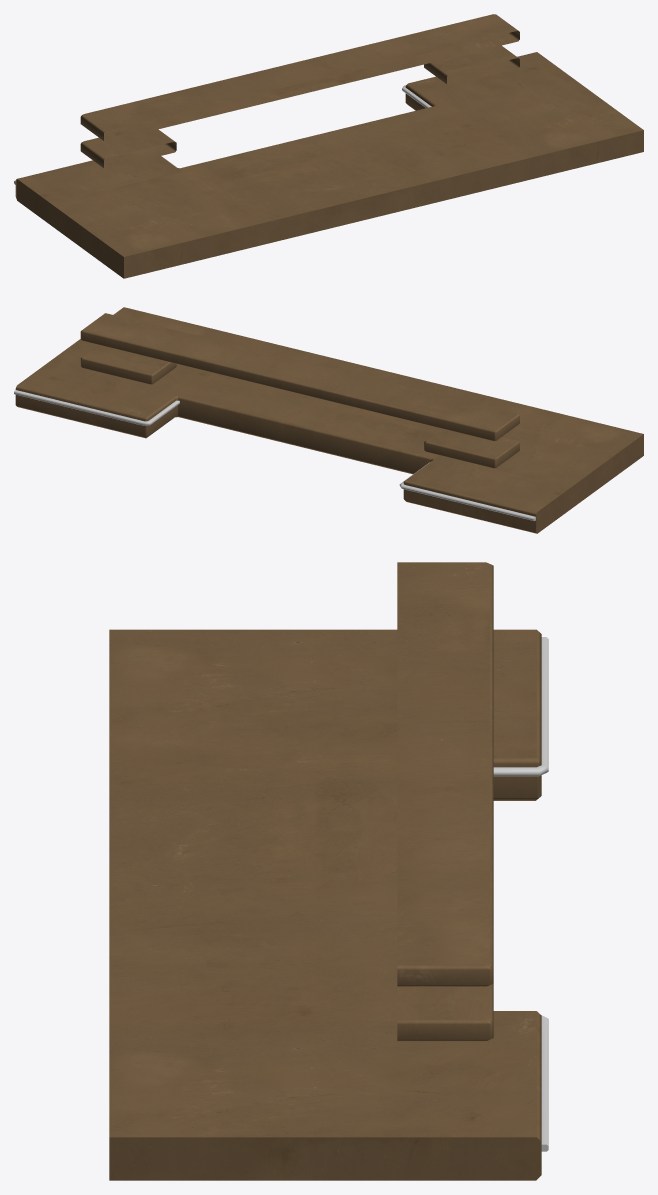
The model's file is SM_Building01EntranceCanopyR.fbx.
3 renders of one model, top to bottom at view 1: azimuth 30°, elevation 25°; view 2: azimuth 150°, elevation 25°; view 3: azimuth 270°, elevation 25°, orthographic. The views are drawn at different scales.
Visible parts, largest first — view 1: SM_Building01EntranceCanopyR_LOD0; view 2: SM_Building01EntranceCanopyR_LOD0; view 3: SM_Building01EntranceCanopyR_LOD0.
Boxes of the visible parts, left/top/right/bottom form: SM_Building01EntranceCanopyR_LOD0: left=14, top=14, right=643, bottom=278; SM_Building01EntranceCanopyR_LOD0: left=14, top=307, right=643, bottom=533; SM_Building01EntranceCanopyR_LOD0: left=109, top=562, right=548, bottom=1180.
Bounding box in the file's own units: 500 × 183 × 75.
Materials: 2 (1 with a texture image).
